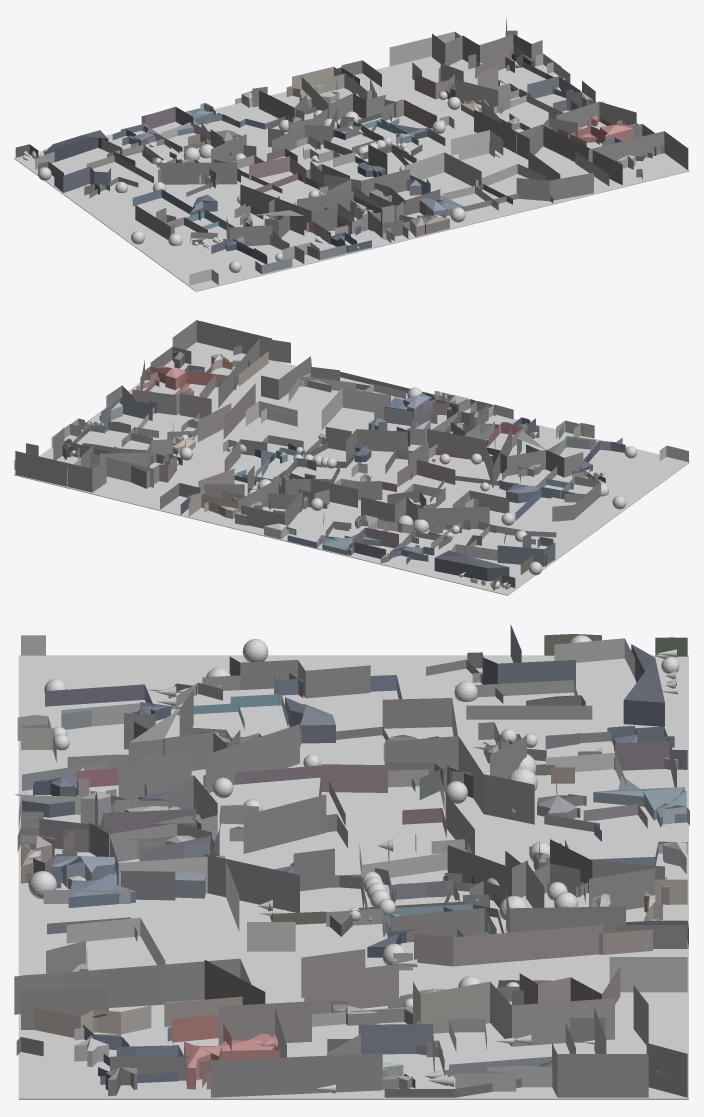
3 renders of one model, top to bottom at view 1: azimuth 30°, elevation 25°; view 2: azimuth 150°, elevation 25°; view 3: azimuth 270°, elevation 25°, orthographic. The views are drawn at different scales.
Parts seen in each view (by area): view 1: Ground_Base, BLD-162, BLD-083, BLD-014, BLD-199, BLD-142, BLD-213, BLD-053, BLD-159, BLD-131, BLD-122, BLD-154 (+31 smaller); view 2: Ground_Base, BLD-014, BLD-083, BLD-142, BLD-131, BLD-159, BLD-213, BLD-075, BLD-162, BLD-016, BLD-154, BLD-178 (+26 smaller); view 3: Ground_Base, BLD-142, BLD-131, BLD-162, BLD-014, BLD-122, BLD-053, BLD-083, BLD-058, BLD-051, BLD-199, BLD-159 (+61 smaller).
Boxes of the visible parts, x1,y1,x2,y2 form: Ground_Base: (14, 41, 689, 291); BLD-162: (240, 179, 353, 232); BLD-083: (159, 129, 246, 184); BLD-014: (432, 17, 542, 66); BLD-199: (516, 151, 593, 201); BLD-142: (474, 99, 577, 159); BLD-213: (588, 131, 688, 169); BLD-053: (440, 63, 510, 112); BLD-159: (226, 196, 304, 246); BLD-131: (310, 144, 409, 196); BLD-122: (548, 81, 636, 127); BLD-154: (516, 124, 622, 184); Ground_Base: (14, 342, 689, 595); BLD-014: (15, 427, 106, 492); BLD-083: (361, 496, 489, 529); BLD-142: (179, 383, 255, 442); BLD-131: (325, 427, 428, 464); BLD-159: (492, 430, 583, 477); BLD-213: (172, 320, 272, 360); BLD-075: (280, 474, 382, 507); BLD-162: (427, 422, 511, 487); BLD-016: (434, 550, 509, 581); BLD-154: (218, 338, 290, 407); BLD-178: (321, 387, 390, 430); Ground_Base: (18, 655, 688, 1099); BLD-142: (204, 949, 398, 1045); BLD-131: (204, 794, 334, 912); BLD-162: (118, 724, 299, 819); BLD-014: (552, 985, 687, 1097); BLD-122: (211, 1007, 382, 1097); BLD-053: (413, 981, 614, 1046); BLD-083: (384, 736, 534, 824); BLD-058: (414, 921, 602, 966); BLD-051: (506, 861, 655, 933); BLD-199: (22, 940, 165, 1007); BLD-159: (124, 689, 240, 770).
Size of the model in its own units: 344 by 22.59 by 218.
